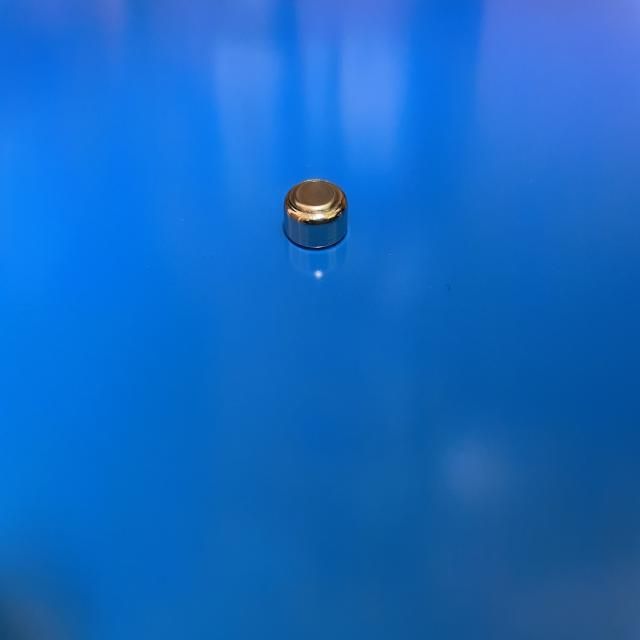COIN: (282, 178, 349, 250)
